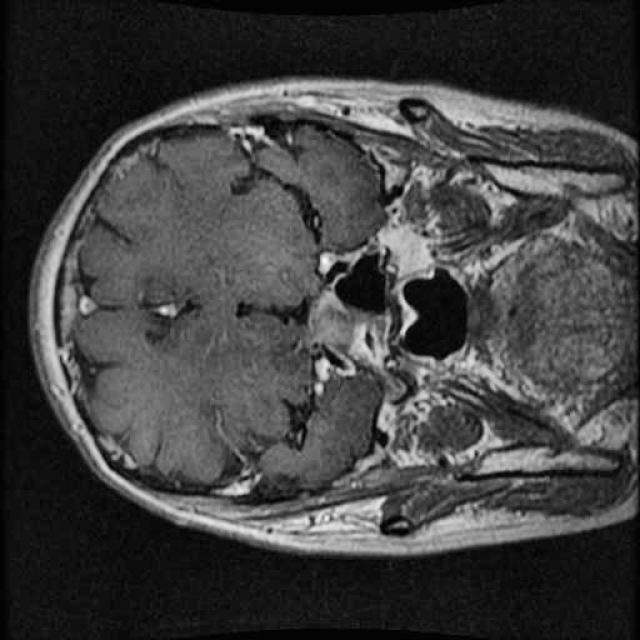Tumor: (379, 220, 461, 300)
